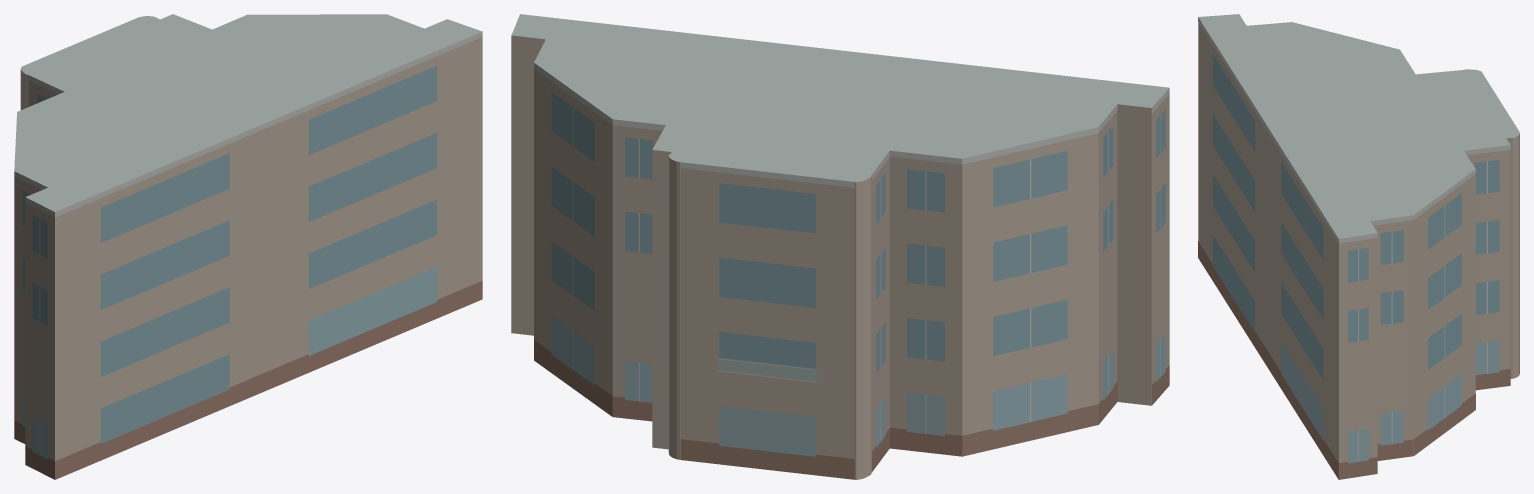
File: survey-upis-32656485.glb
3 views of the same model, side by side, from view 1: azimuth 30°, elevation 25°; view 2: azimuth 150°, elevation 25°; view 3: azimuth 270°, elevation 25° (orthographic). The views are drawn at different scales.
Visible parts, largest first — view 1: survey-upis-32656485.tmp; view 2: survey-upis-32656485.tmp; view 3: survey-upis-32656485.tmp.
Part boxes in pixels (left/top/right/bottom): survey-upis-32656485.tmp: left=14, top=14, right=482, bottom=479; survey-upis-32656485.tmp: left=511, top=14, right=1169, bottom=479; survey-upis-32656485.tmp: left=1198, top=14, right=1519, bottom=479.
Bounding box in the file's own units: 24.45 × 12.2 × 14.77.
